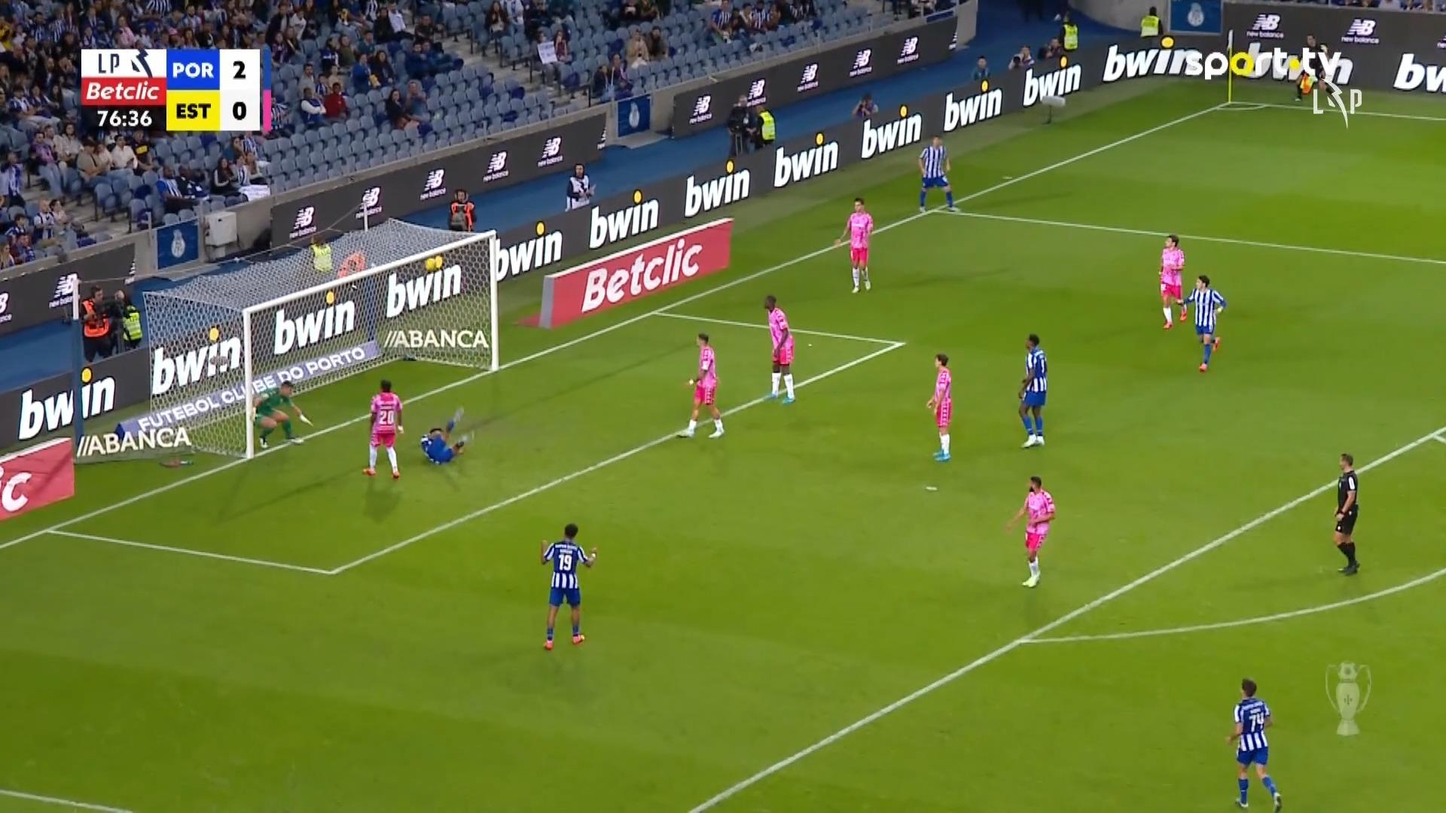goalkeeper: (251, 379, 313, 449)
player: (1225, 677, 1282, 811), (539, 522, 597, 650), (1005, 475, 1055, 588), (676, 332, 725, 438), (1177, 273, 1226, 371), (362, 379, 404, 479), (833, 196, 873, 293), (763, 294, 796, 403), (1017, 333, 1048, 447), (917, 134, 959, 212), (419, 406, 470, 465), (926, 352, 953, 461), (1158, 233, 1186, 329)
referee: (1294, 35, 1342, 111), (1332, 452, 1360, 574)
